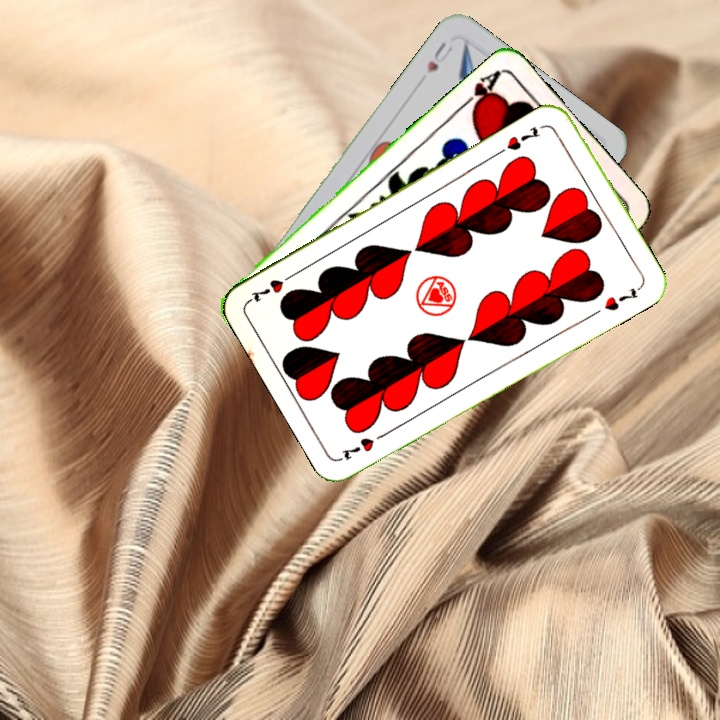H7: (337, 427, 391, 463), (502, 122, 542, 153)
HA: (455, 66, 503, 116)
HU: (422, 38, 456, 76)
